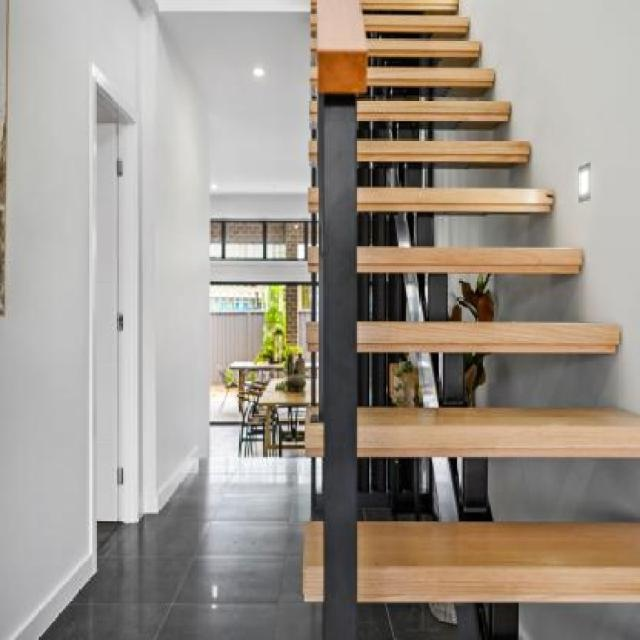stair: (285, 0, 635, 628)
